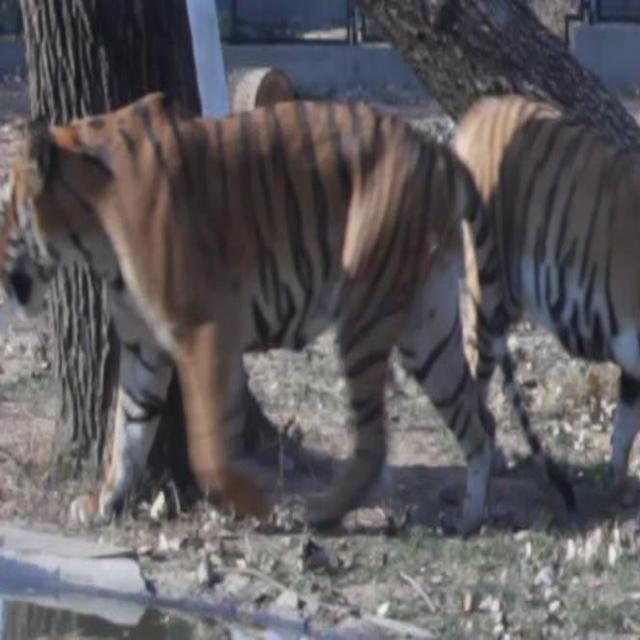tiger: (0, 81, 513, 548), (441, 67, 640, 540)
